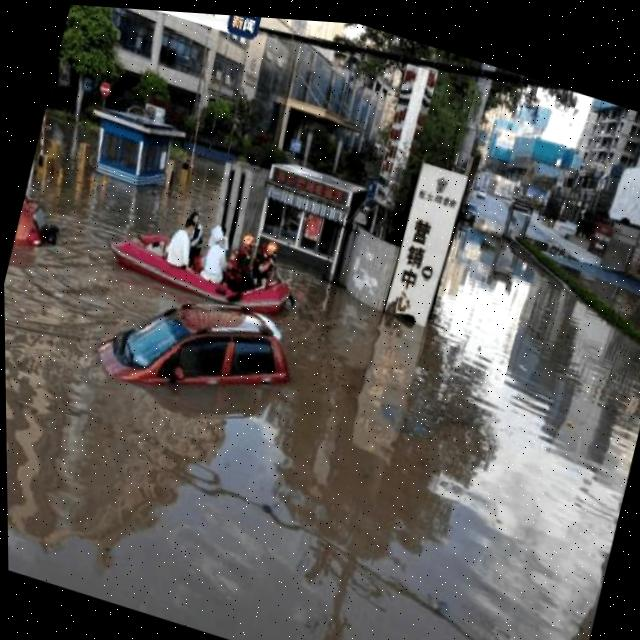civilian: (157, 213, 202, 278), (178, 208, 215, 265), (198, 232, 232, 290), (203, 218, 233, 256)
rescuer: (223, 225, 266, 297), (251, 231, 290, 295)
